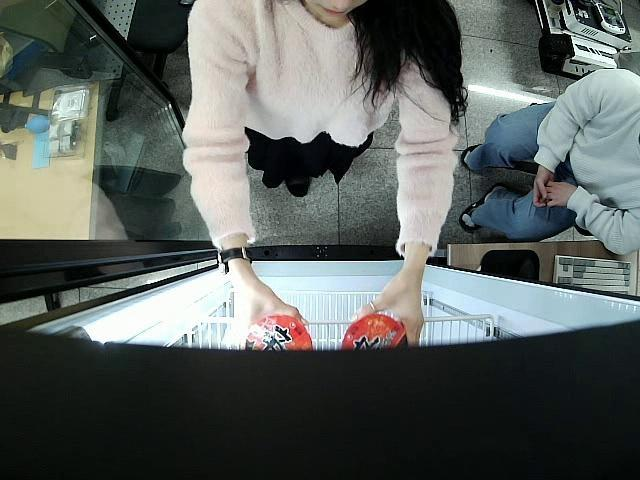02_shinRamen_S: (240, 317, 316, 356), (338, 313, 411, 353)
